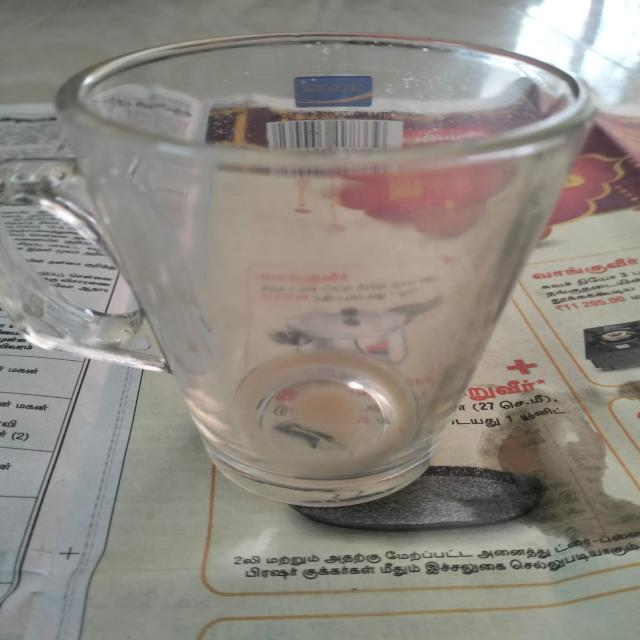glass-VX4N: (9, 36, 607, 512)
